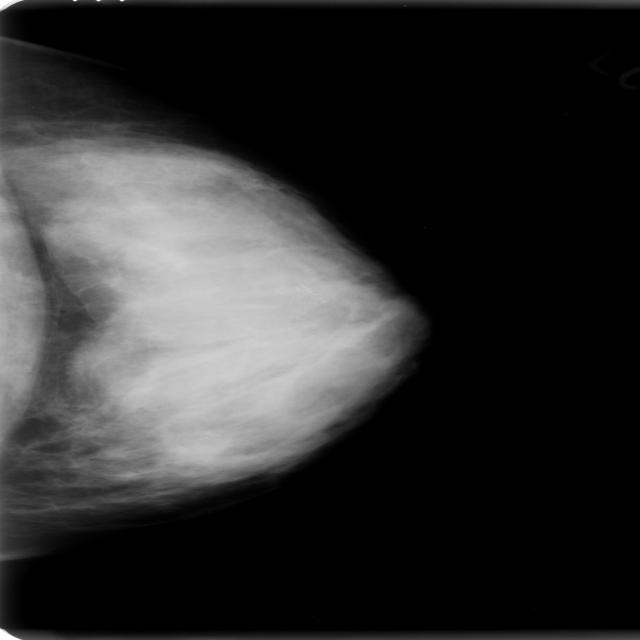cancer: (26, 148, 418, 528)
